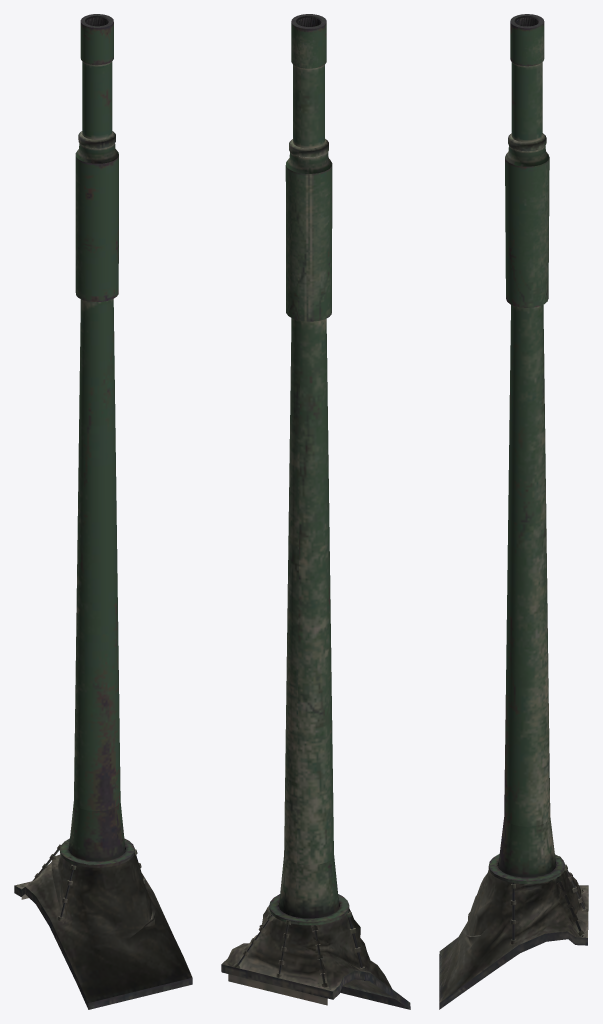
Rendered from Gun_05.glb.
3 renders of one model, left to right at view 1: azimuth 30°, elevation 25°; view 2: azimuth 150°, elevation 25°; view 3: azimuth 270°, elevation 25°, orthographic. The views are drawn at different scales.
Visible parts, largest first — view 1: set_0_group_0; view 2: set_0_group_0; view 3: set_0_group_0.
Boxes of the visible parts, <box> form: set_0_group_0: <box>14,14,192,1009</box>; set_0_group_0: <box>221,14,410,1009</box>; set_0_group_0: <box>439,14,588,1009</box>.
Size of the model in its own units: 0.536 by 4.6 by 0.6467.
Materials: 1 (1 with a texture image).
